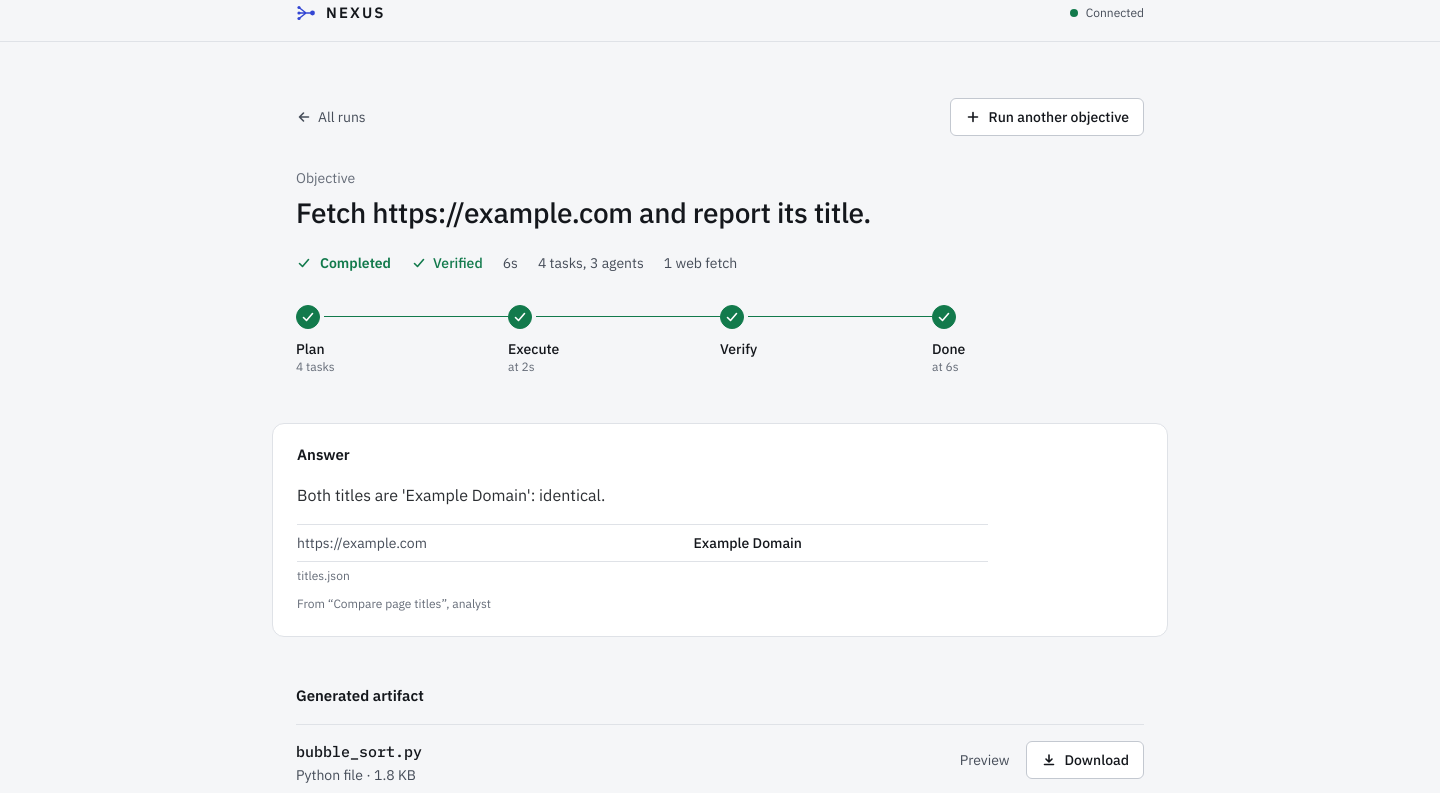
Run page: generated artifacts › previews the start of a ready text file from the downloaded bytes
What coordinates should you click on to do the following:
click the button "Preview"
I would click on:
 (985, 760)
Its box is [952,744,1018,776].
(page scrolled)
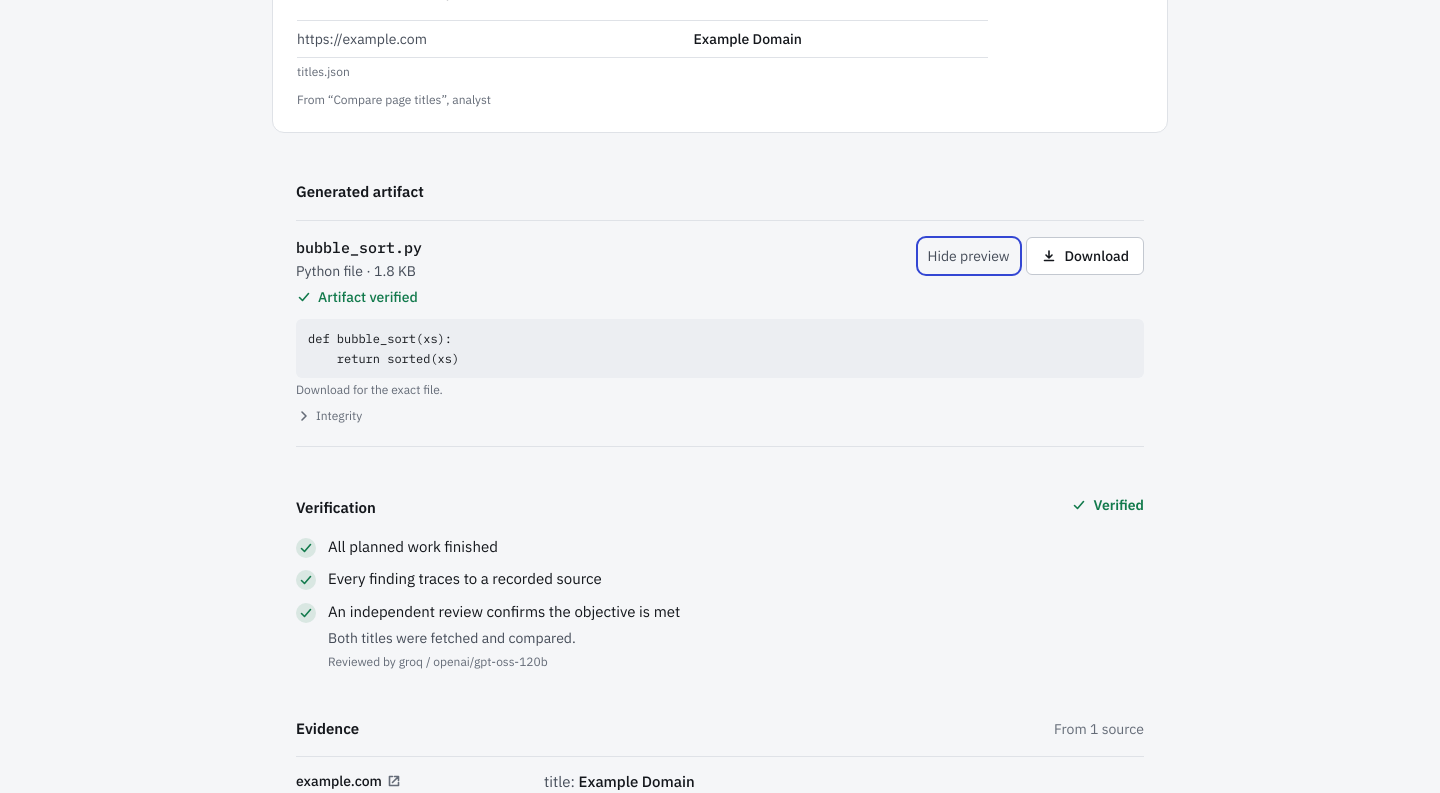
Expected: the text "def bubble_sort(xs): return sorted(xs)" is shown, [296,319,1144,378]
Expected: the text "Download for the exact file." is shown, [296,382,443,397]
